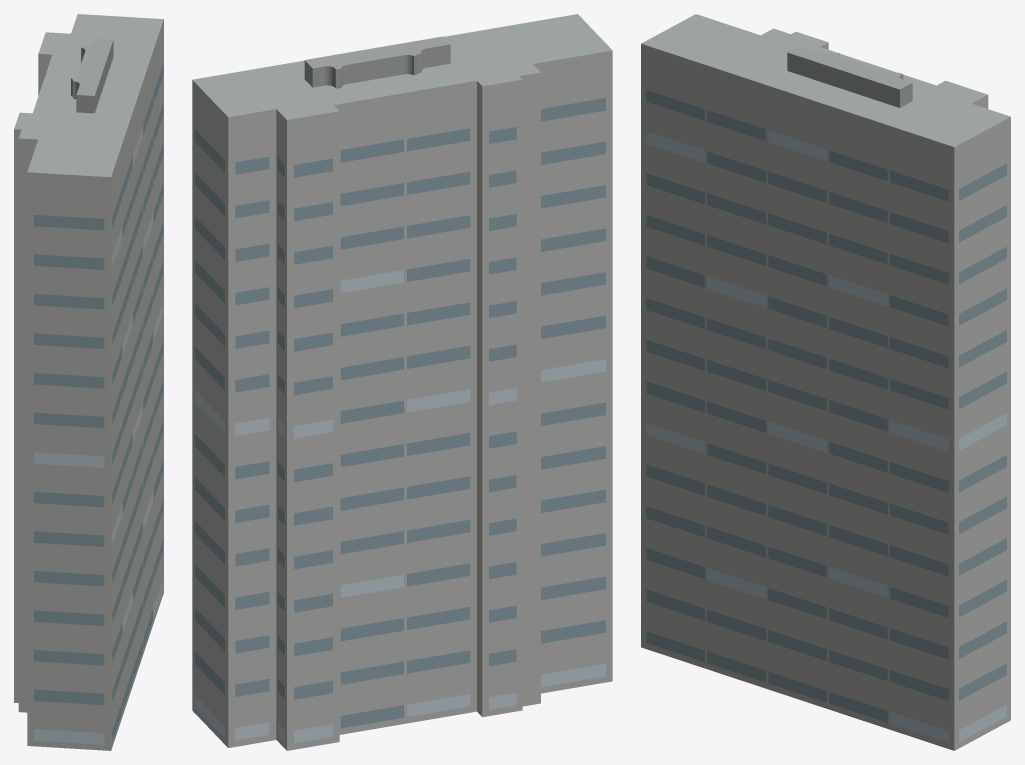
The model's file is fallback-jamsil-trizium-322.glb.
The picture shows the model from 3 angles, left to right: view 1: azimuth 30°, elevation 25°; view 2: azimuth 150°, elevation 25°; view 3: azimuth 270°, elevation 25°; orthographic projection. The views are drawn at different scales.
Visible parts, largest first — view 1: fallback-jamsil-trizium-322; view 2: fallback-jamsil-trizium-322; view 3: fallback-jamsil-trizium-322.
Boxes of the visible parts, x1=… form: fallback-jamsil-trizium-322: x1=14, y1=14, x2=163, y2=750; fallback-jamsil-trizium-322: x1=192, y1=14, x2=612, y2=750; fallback-jamsil-trizium-322: x1=641, y1=14, x2=1010, y2=750.
Bounding box in the file's own units: 37.19 × 81 × 43.64.
